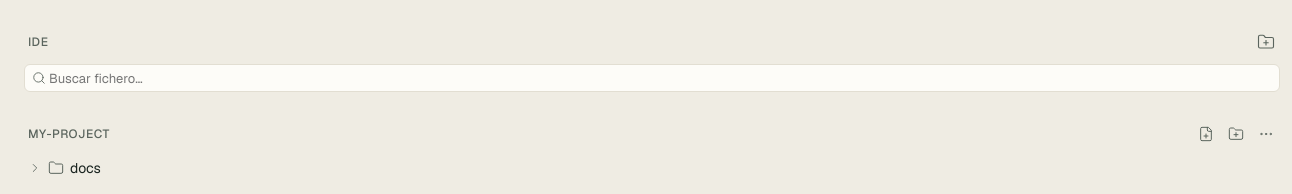
Test: IdeTree › TC-08: context menu on folder shows "Nueva nota" option
The width and height of the screenshot is (1292, 194).
Right-click the element with test id "ide-node-docs" at x=64, y=168, box [28,159,101,177]
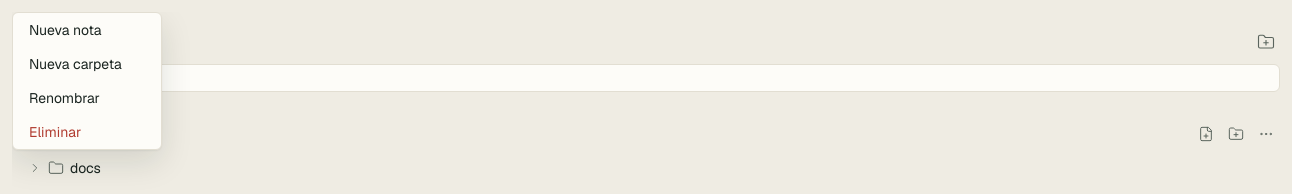
Expected: the button with test id "ide-context-new-note" is shown, [13,13,161,47]
